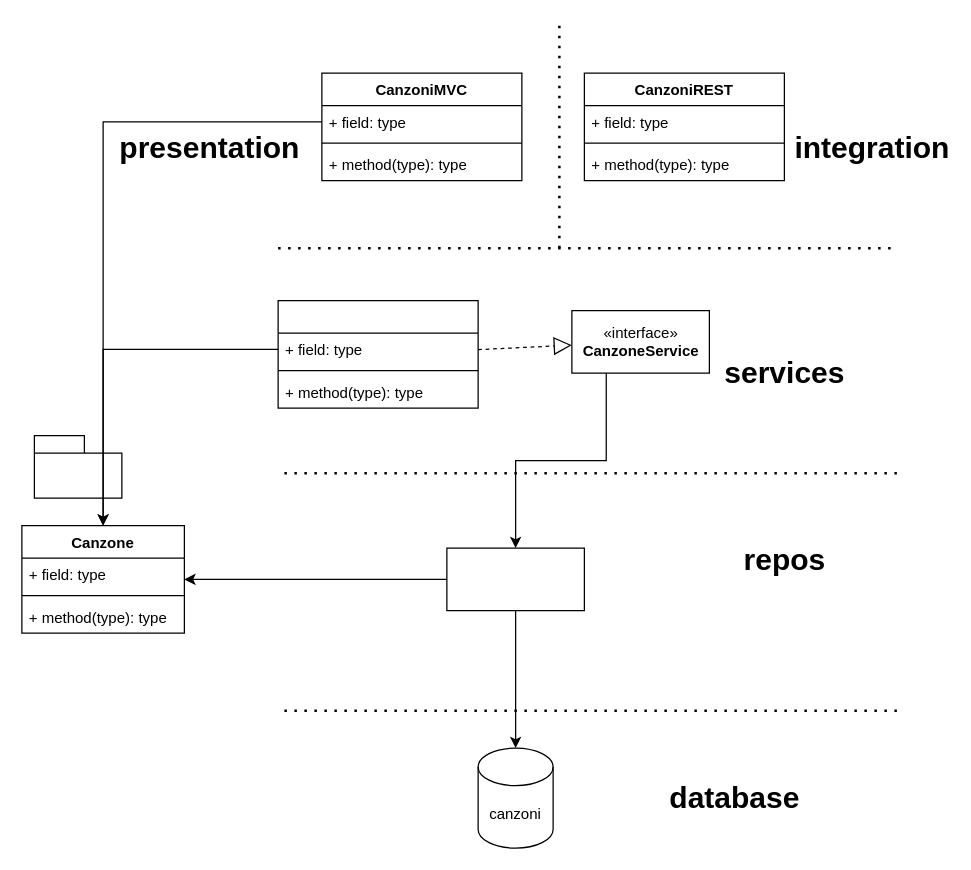
Image size: 971x870. Some labels were removed from this diagram. The box of each missing label's shape, as (x1, y1, x2, y2) in pixels:
CanzoneServiceImpl: (277, 299, 478, 408)
entities: (33, 434, 122, 498)
«interface» CanzoneDAO: (446, 547, 584, 611)
